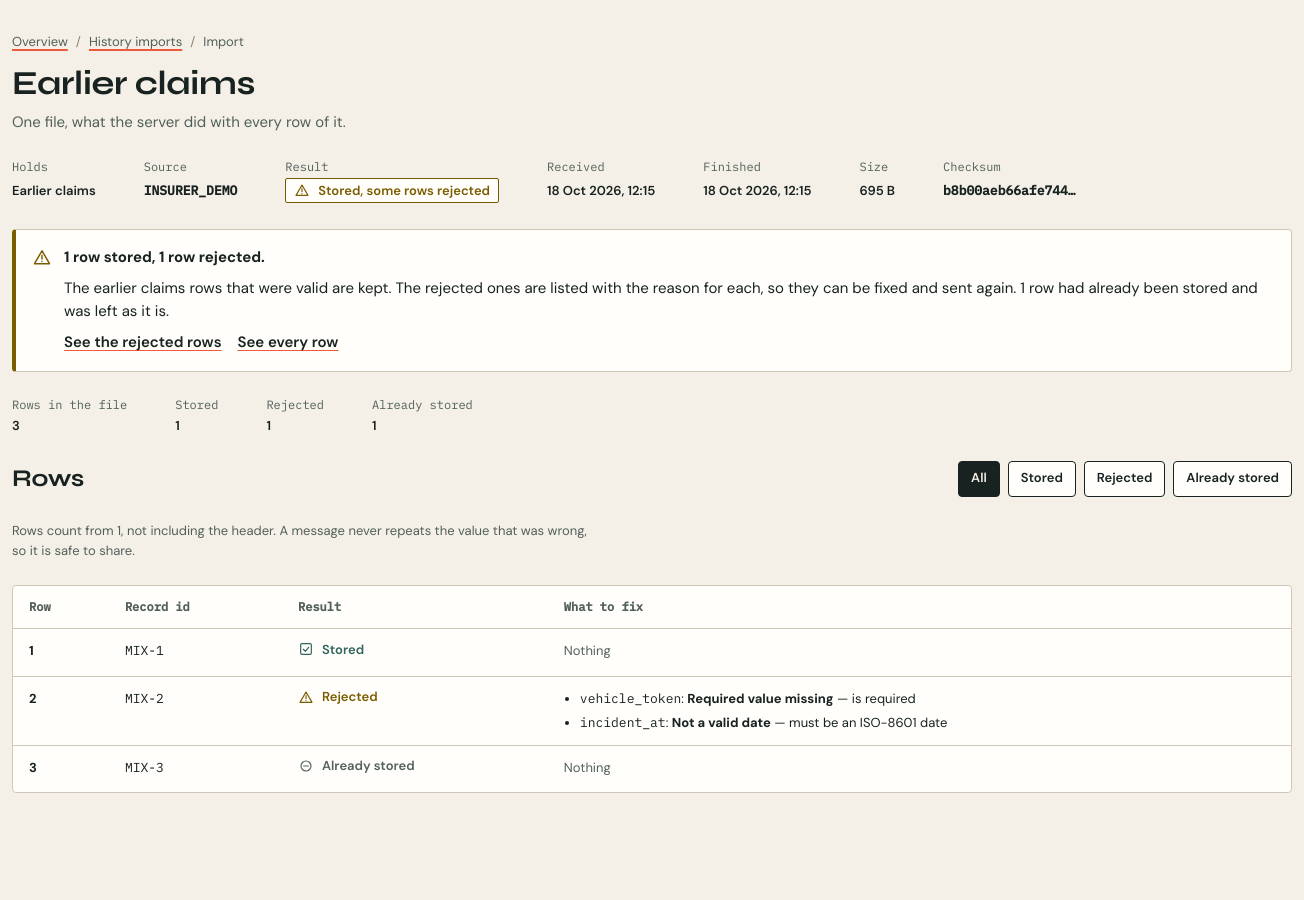
Scenario: an import › filters rows by result, in the address, and asks the server for that result
Check: the table named "Rows of this import" is shown, box [13,586,1291,792]
Click the button "Rejected" at (1125, 479), box [1084,461,1165,497]
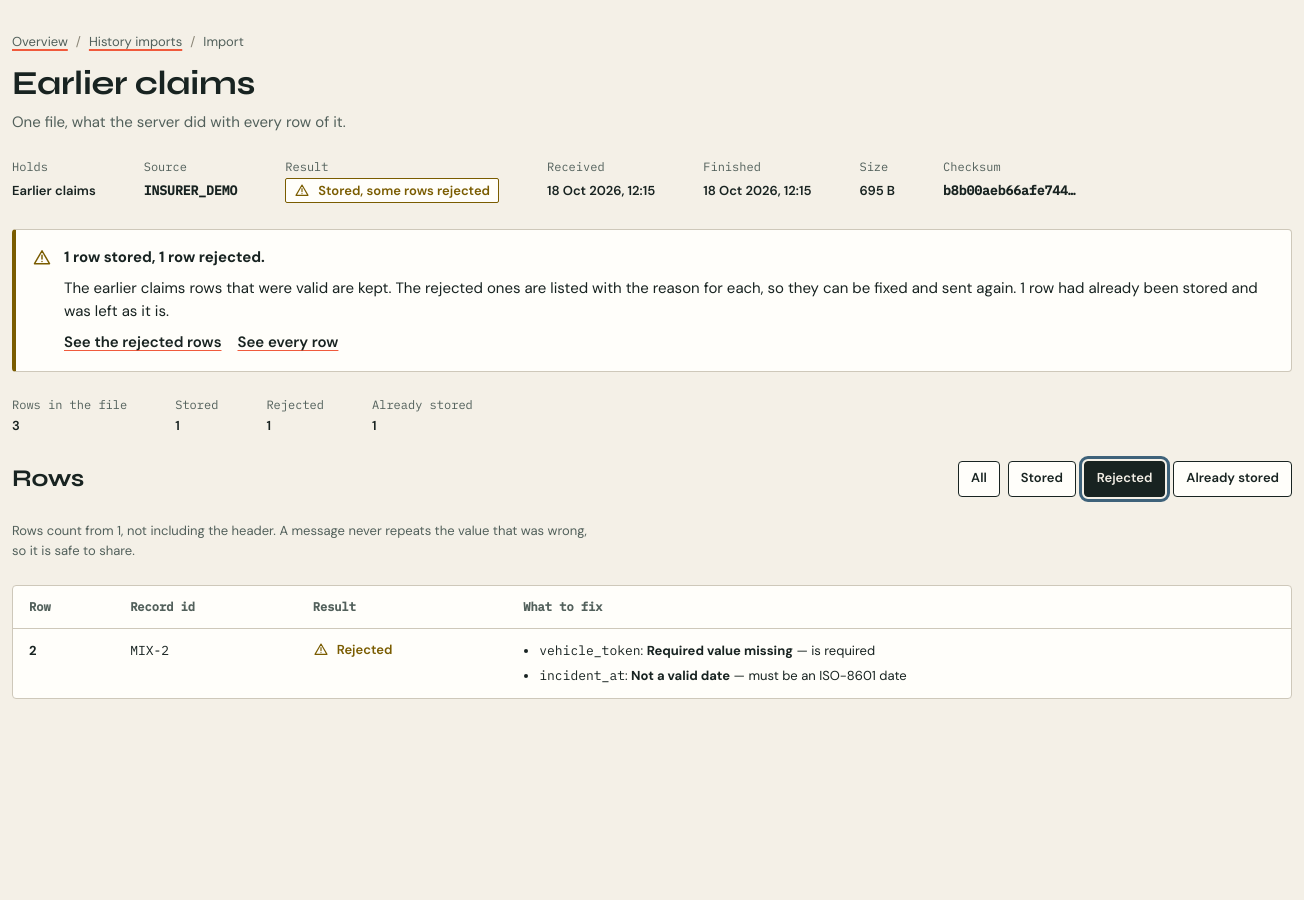
Check: the number of rows is 2, box [13,586,1291,628]; [13,629,1291,698]
Click the button "All" at (979, 479), box [958,461,1000,497]
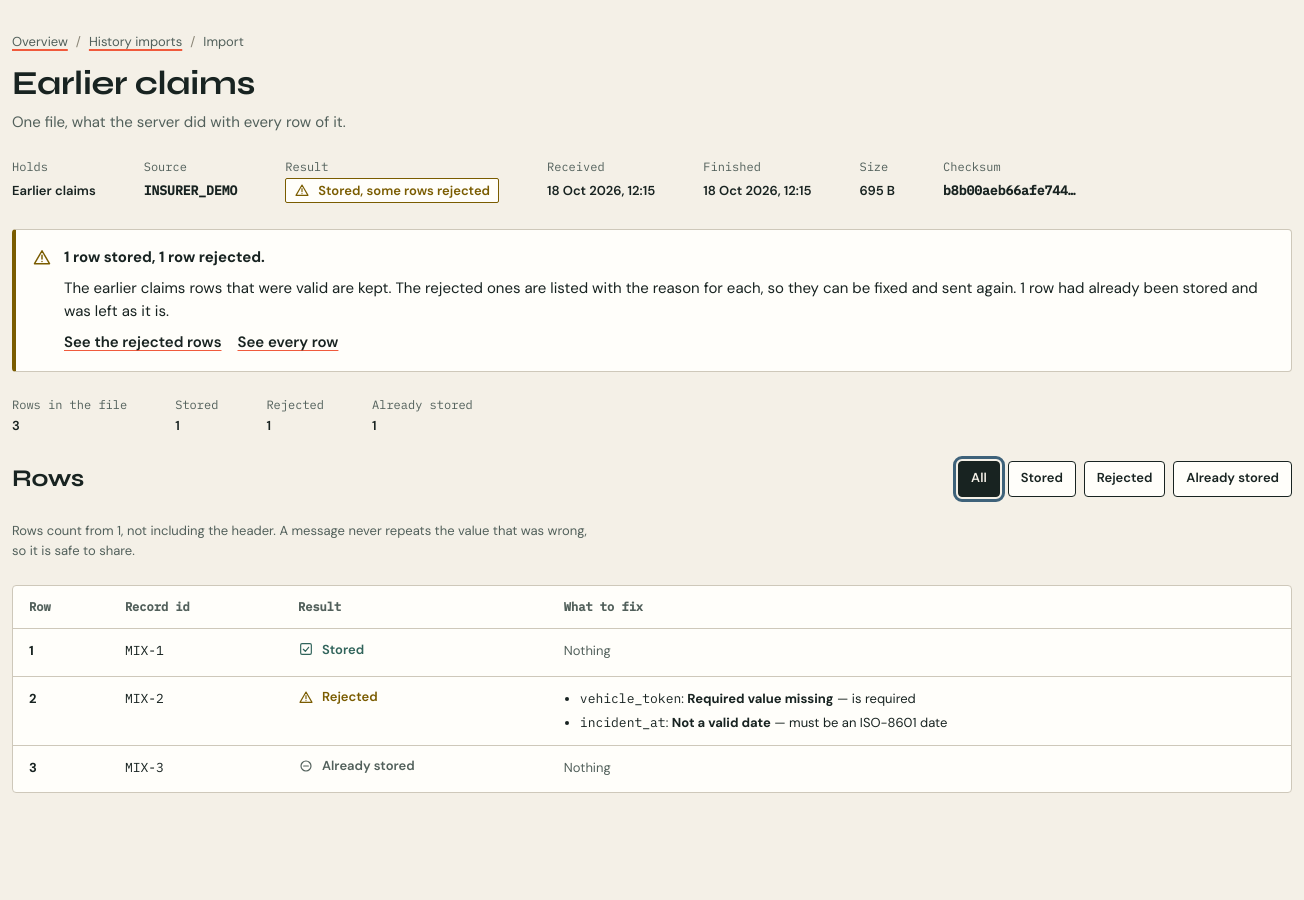
Check: the number of rows is 4, box [13,586,1291,628]; [13,629,1291,676]; [13,676,1291,745]; [13,745,1291,792]
